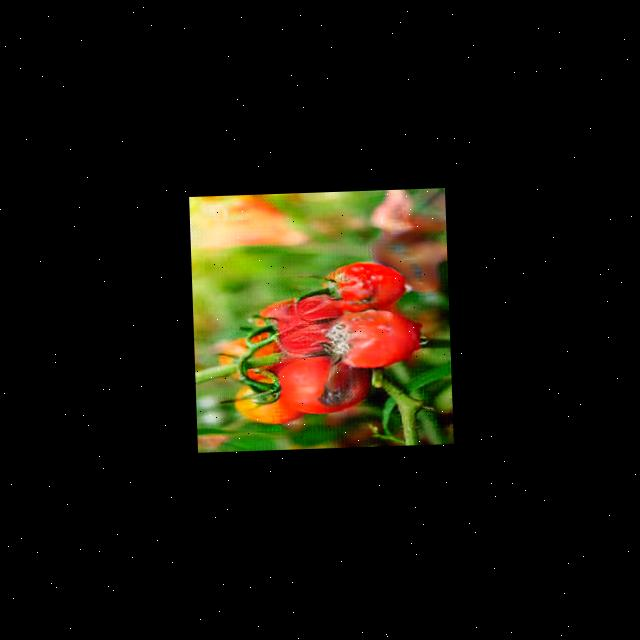tomato: (325, 308, 422, 369), (276, 354, 372, 413), (318, 257, 403, 314)
